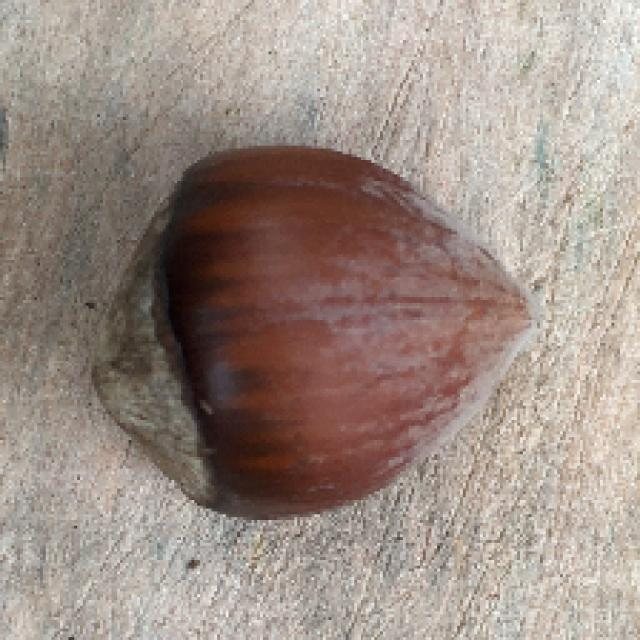damagedHazelnut: (81, 115, 542, 540)
